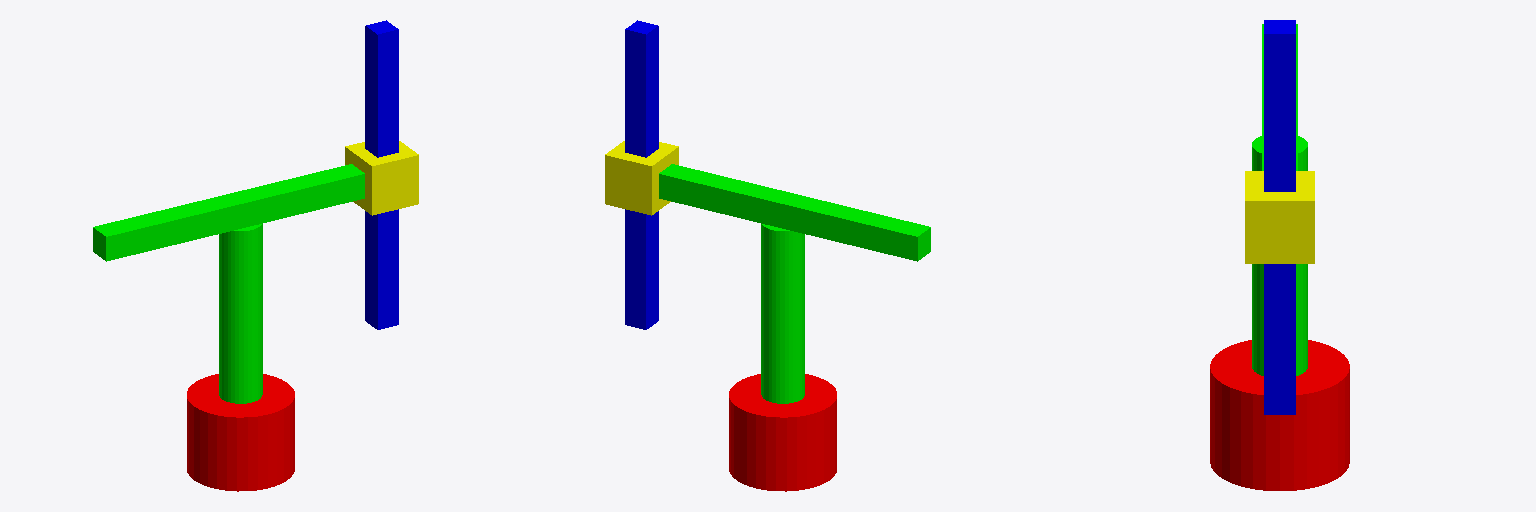
URDF robot description (RPP_Robot):
<?xml version="1.0"?>
<robot name="RPP_Robot">
  
  <material name="red">
    <color rgba="1 0 0 0.8" />
  </material>
  <material name="green">
    <color rgba="0 1 0 0.8" />
  </material>
<material name="blue">
    <color rgba="0 0 1 0.8" />
  </material>
<material name="yellow">
    <color rgba="1 1 0 0.8" />
  </material>

 
  <link name="base" />
  <link name="silindir">
    <visual>
      <geometry>
        <cylinder length="3" radius = "2"  />
      </geometry>
      <origin xyz="0 0 1.5" />
      <material name="red" />
    </visual>
  </link>
  <link name="silindir1">
    <visual>
      <geometry>
         <cylinder radius = "0.8" length="8" />
      </geometry>
      <origin xyz="0 0 -4 " />
      <material name="green" />
    </visual>
  </link>


<link name="prizma">
    <visual>
      <geometry>
       <box size="12 1 1" />
      </geometry>
      
      <material name="green" />
    </visual>
  </link>
<link name="kutu">
    <visual>
      <geometry>
       <box size="2 2 2" />
      </geometry>
      <material name="yellow" />
    </visual>
  </link>
<link name="end">
    <visual>
      <geometry>
       <box size=" 0.9 0.9 12" />
      </geometry>
      <origin xyz="0 0 6 " />
      <material name="blue" />
    </visual>
  </link>

  <joint name="j1" type="continuous">
    <parent link="base" />
    <child link="silindir" />
    <axis xyz="0 0 1" />
  </joint>
  
  <joint name="j2" type="fixed">
    <parent link="silindir" />
    <child link="silindir1" />
    <origin xyz="0 0 10" />
    
  </joint>
  

<joint name="j4" type="prismatic">
    <parent link="silindir1" />
    <child link="prizma" />
 <origin xyz="0 0 0.5" />
<limit effort="30" velocity="1.0" lower="-2.2" upper="5" />
<axis xyz="1 0 0" />

  </joint>
  <joint name="j5" type="fixed">
    <parent link="prizma" />
    <child link="kutu" />
    <origin xyz="6 0 0" />

  </joint>
<joint name="j6" type="prismatic">
    <parent link="kutu" />
    <child link="end" />
<origin xyz="0 0 -6" />
<limit effort="30" velocity="1.0" lower="-2.2" upper="5" />
<axis xyz="0 0 1" />
  </joint>

</robot>

--- What the picture shows (computed from the rendered views, not written in the file) ---
The picture shows the robot from 3 angles, left to right: view 1: azimuth 30°, elevation 25°; view 2: azimuth 150°, elevation 25°; view 3: azimuth 270°, elevation 25°; orthographic projection.
Model RPP_Robot with 6 links and 5 joints (1 continuous, 2 prismatic, 2 fixed), rooted at base, posed every joint at zero.
Links seen in each view (by area): view 1: silindir, prizma, end, silindir1, kutu; view 2: silindir, prizma, end, silindir1, kutu; view 3: silindir, end, kutu, silindir1, prizma.
Link boxes in pixels (x1=…): silindir: x1=187, y1=374, x2=294, y2=491; prizma: x1=93, y1=164, x2=364, y2=261; end: x1=365, y1=20, x2=398, y2=329; silindir1: x1=219, y1=224, x2=262, y2=403; kutu: x1=345, y1=141, x2=418, y2=215; silindir: x1=729, y1=374, x2=836, y2=491; prizma: x1=659, y1=164, x2=930, y2=261; end: x1=625, y1=20, x2=658, y2=329; silindir1: x1=761, y1=224, x2=804, y2=403; kutu: x1=605, y1=141, x2=678, y2=215; silindir: x1=1210, y1=340, x2=1349, y2=490; end: x1=1264, y1=20, x2=1295, y2=414; kutu: x1=1245, y1=171, x2=1314, y2=263; silindir1: x1=1252, y1=136, x2=1307, y2=375; prizma: x1=1262, y1=24, x2=1297, y2=170.
Bounding box of the posed robot: 13 × 4 × 16.5 m (x, y, z).
Geometry: primitives only (box / cylinder / sphere), no mesh files.